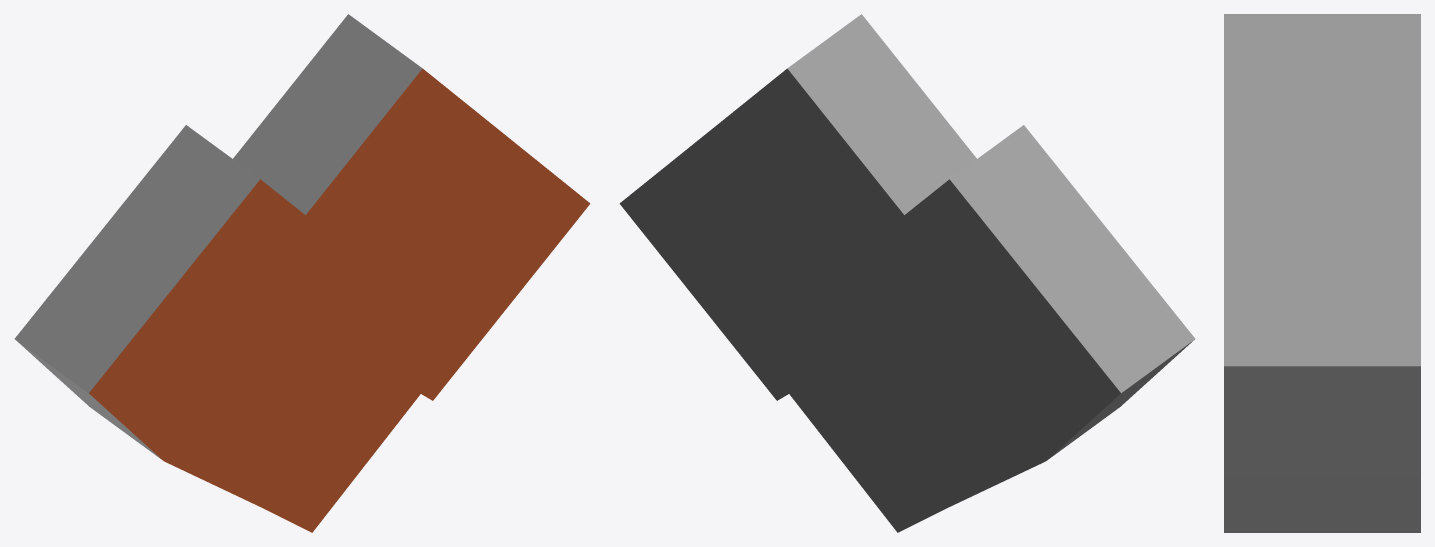
Rendered from construction_6149_assumed_A_Casa_h6m.obj.
3 renders of one model, left to right at view 1: azimuth 30°, elevation 25°; view 2: azimuth 150°, elevation 25°; view 3: azimuth 270°, elevation 25°, orthographic. The views are drawn at different scales.
Parts seen in each view (by area): view 1: construction_6149_assumed_A_Casa; view 2: construction_6149_assumed_A_Casa; view 3: construction_6149_assumed_A_Casa.
Part boxes in pixels (left/top/right/bottom): construction_6149_assumed_A_Casa: left=14, top=14, right=590, bottom=532; construction_6149_assumed_A_Casa: left=619, top=14, right=1195, bottom=532; construction_6149_assumed_A_Casa: left=1224, top=14, right=1420, bottom=532.
Size of the model in its own units: 23.38 by 19.49 by 6.
